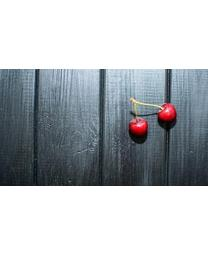cherry: (156, 103, 177, 123), (130, 117, 148, 137)
